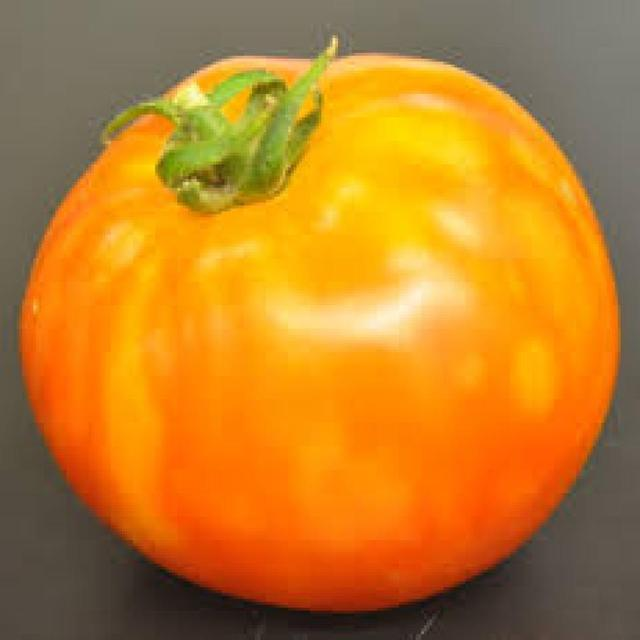Spotted wilt Virus Fruit: (129, 21, 284, 58)
